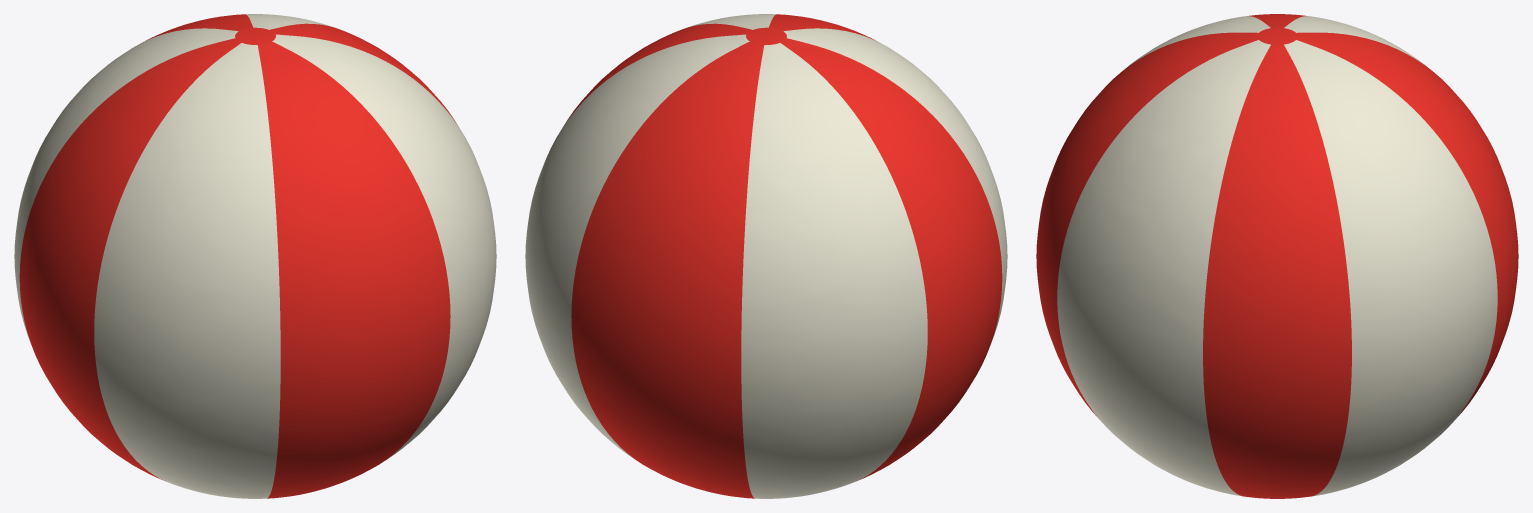
The picture shows the model from 3 angles, left to right: view 1: azimuth 30°, elevation 25°; view 2: azimuth 150°, elevation 25°; view 3: azimuth 270°, elevation 25°; orthographic projection.
Parts seen in each view (by area): view 1: Sphere.003; view 2: Sphere.003; view 3: Sphere.003.
Boxes of the visible parts, bbox=[...] form: Sphere.003: bbox=[14, 14, 496, 498]; Sphere.003: bbox=[525, 14, 1007, 498]; Sphere.003: bbox=[1036, 14, 1518, 498].
Size of the model in its own units: 0.2947 by 0.2982 by 0.2948.
